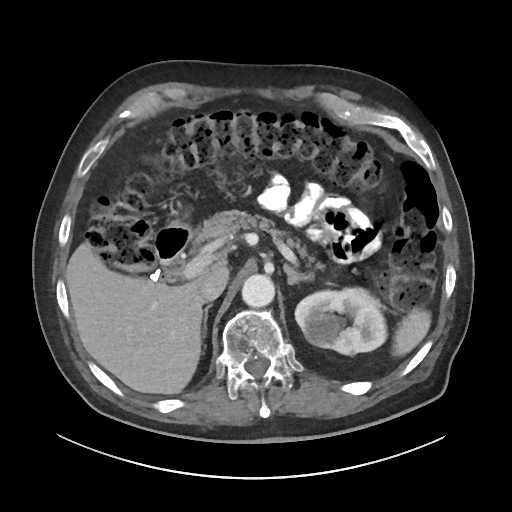Lesion: (301, 304, 343, 347)
